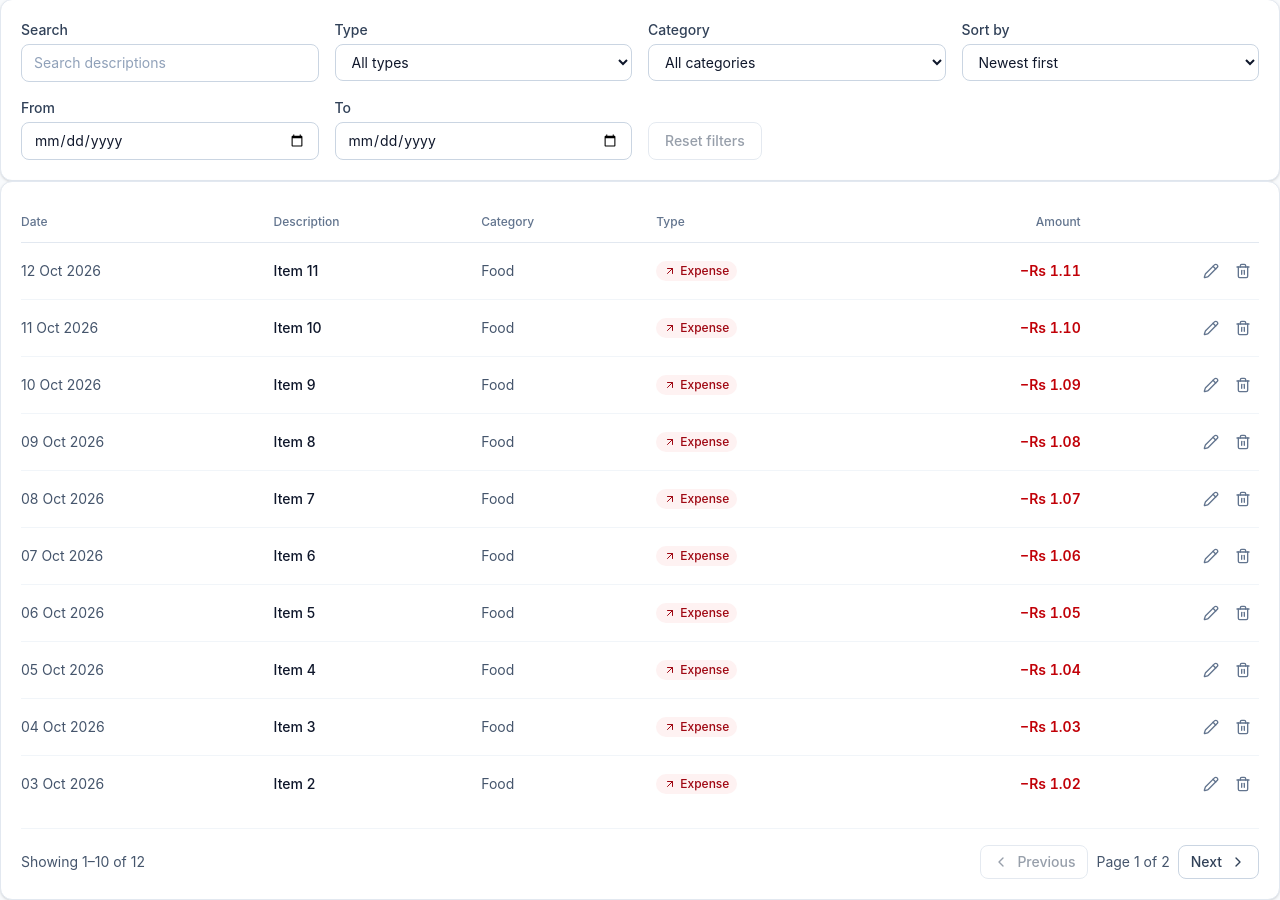
Test: search, filters and pagination › paginates long lists
The image size is (1280, 900).
(page scrolled)
expect the text "Showing 1–10 of 12" is shown: met, box 21,852 -> 145,872
Click the button "Next".
click(1218, 862)  # box 1178,845 -> 1259,879
(page scrolled)
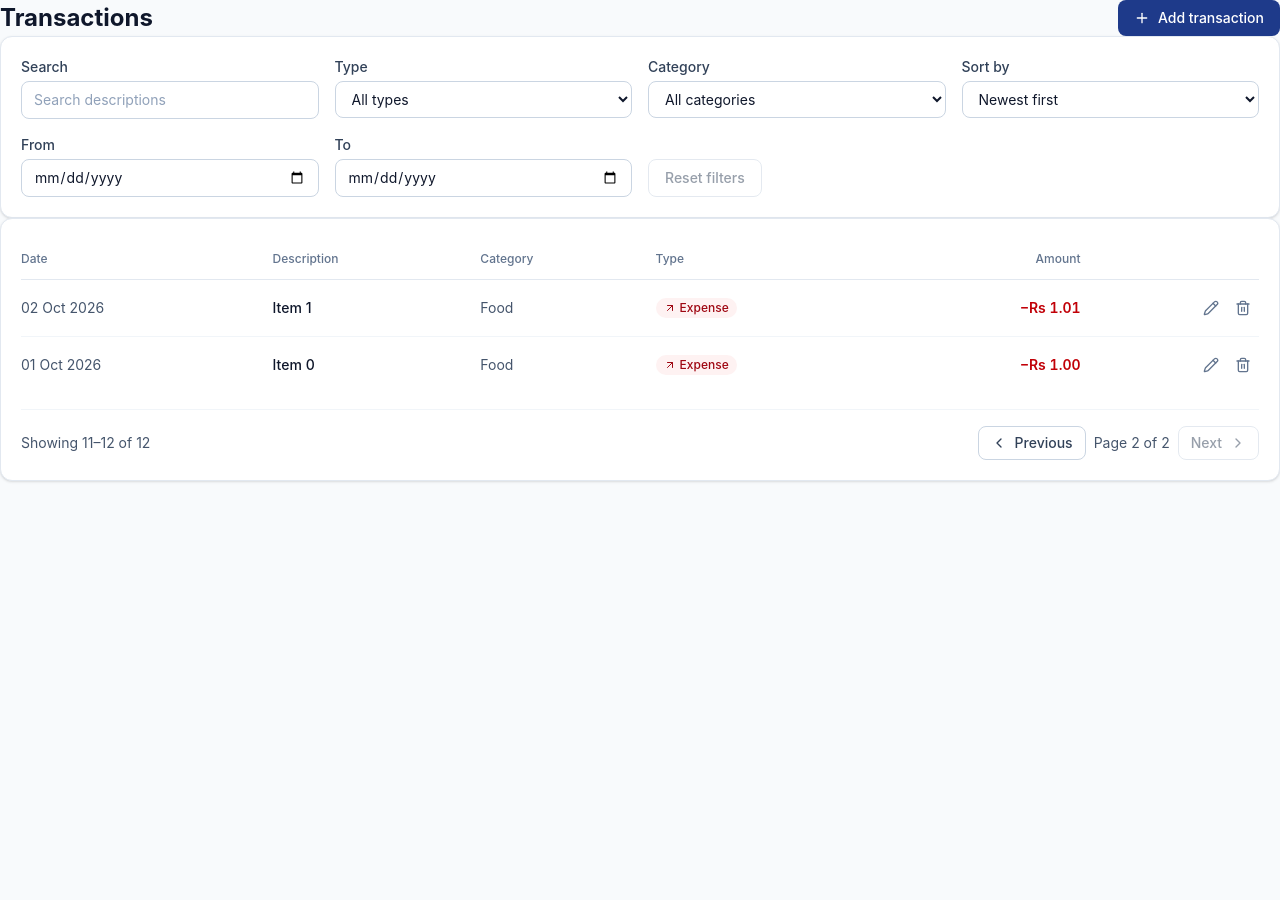
expect the text "Showing 11–12 of 12" is shown: met, box 21,433 -> 150,453
